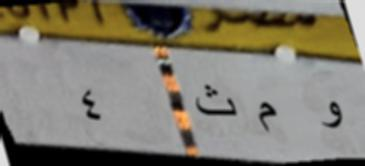4: (74, 80, 106, 128)
meem: (254, 99, 280, 140)
thaa: (193, 81, 239, 123)
waw: (314, 97, 346, 134)
